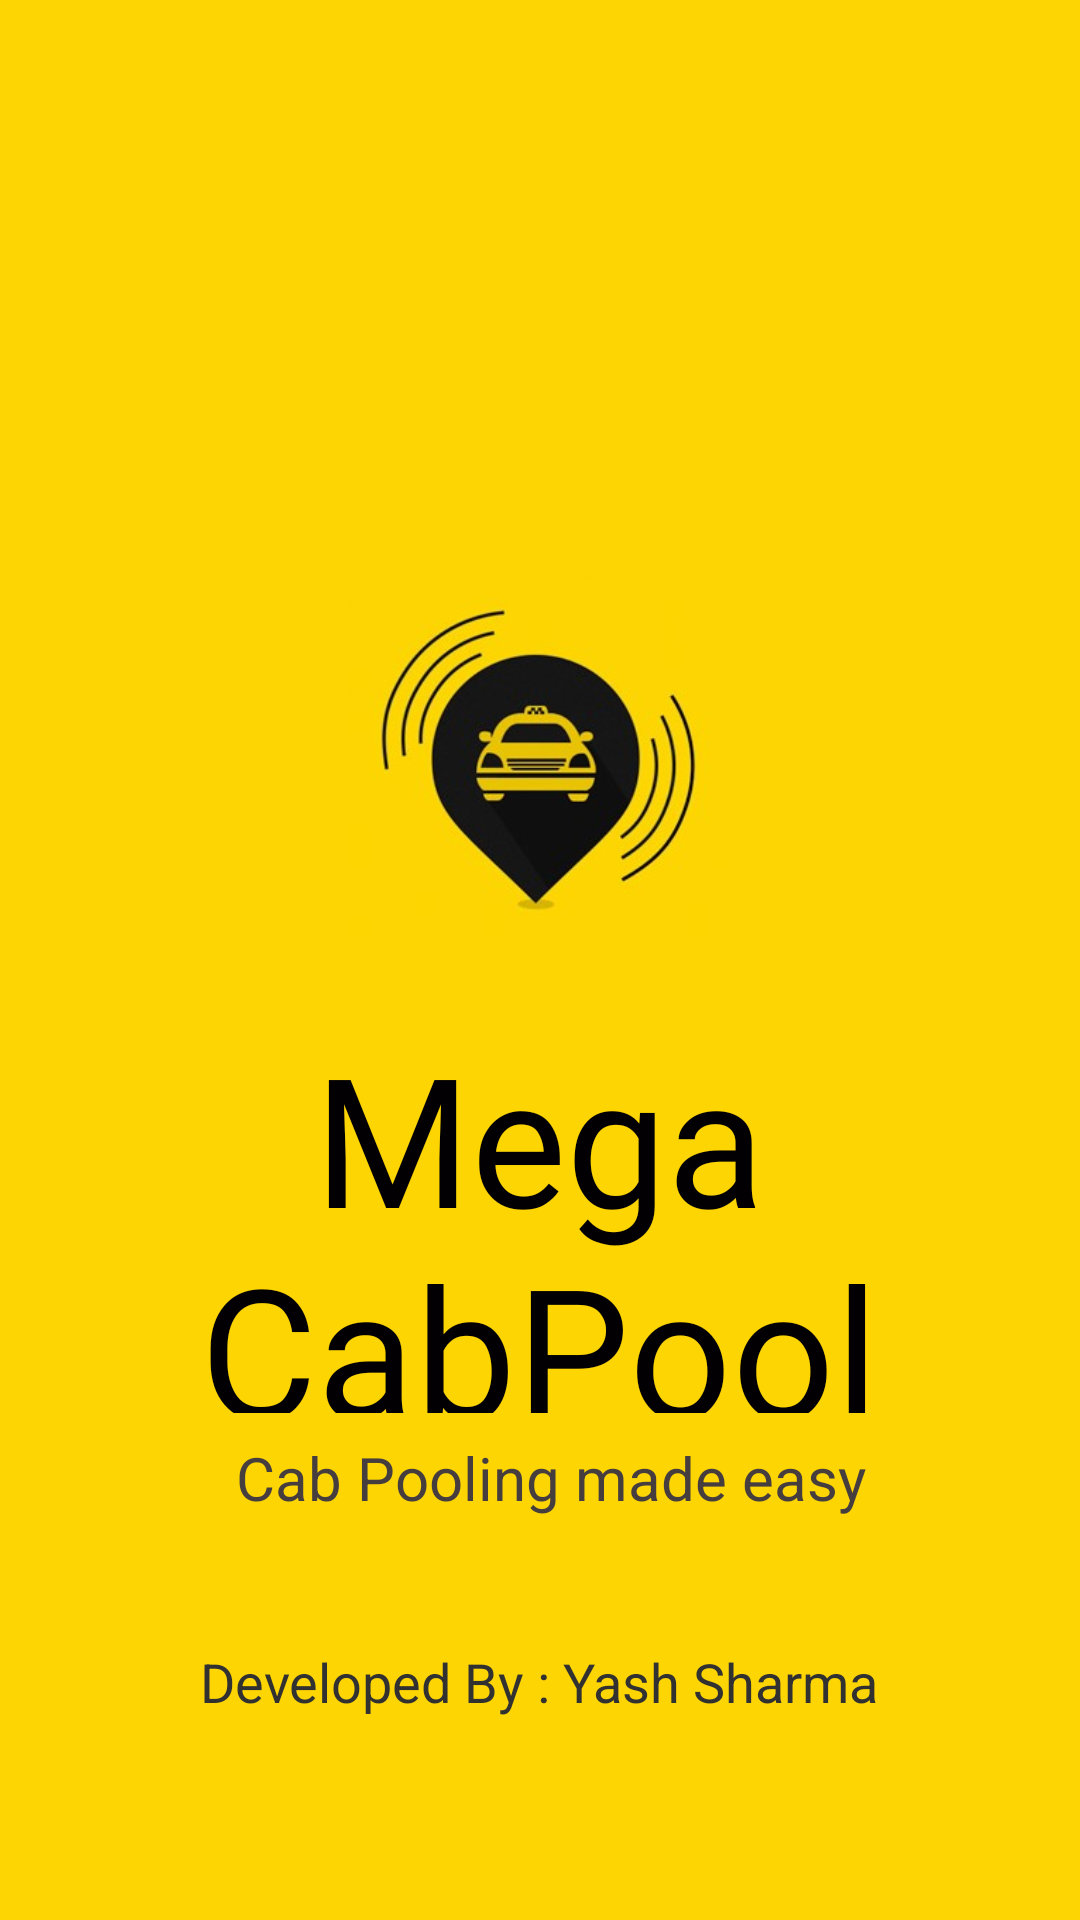

Icon click points for this 1080 x 1920 phone screenshot, format [x,y]:
cabstickermain: [538,759]
